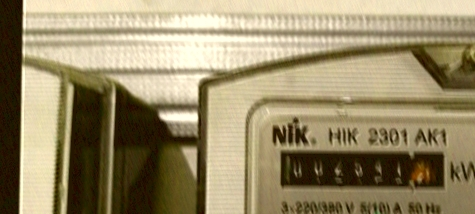0: (292, 157, 305, 178), (313, 156, 325, 177)
1: (394, 155, 405, 178)
2: (333, 155, 347, 177)
4: (374, 155, 385, 176)
5: (353, 155, 366, 179)
6: (416, 171, 427, 184)
screen: (269, 141, 459, 198)
